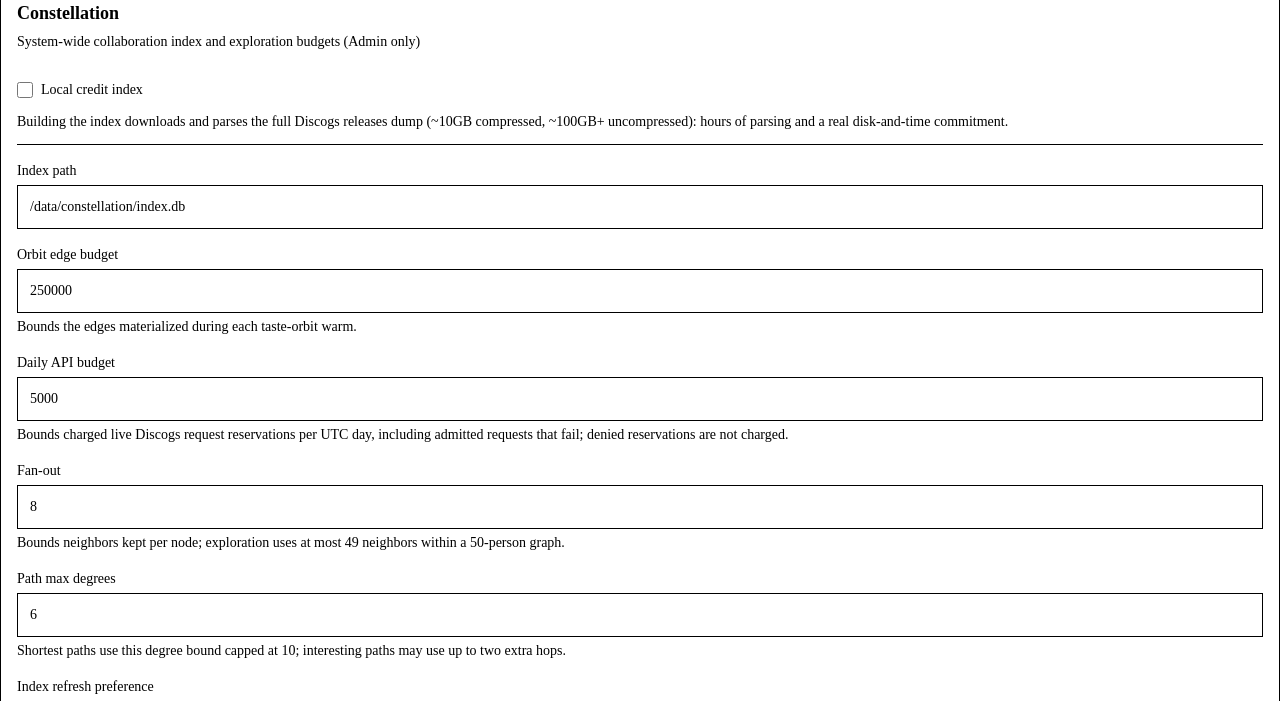
Test: Constellation settings › saves only changed keys to its own endpoint
Step 1. Replace the text in the number field labelled "Daily API budget" with "2000" → (640, 399), box [17,377,1263,421]
(page scrolled)
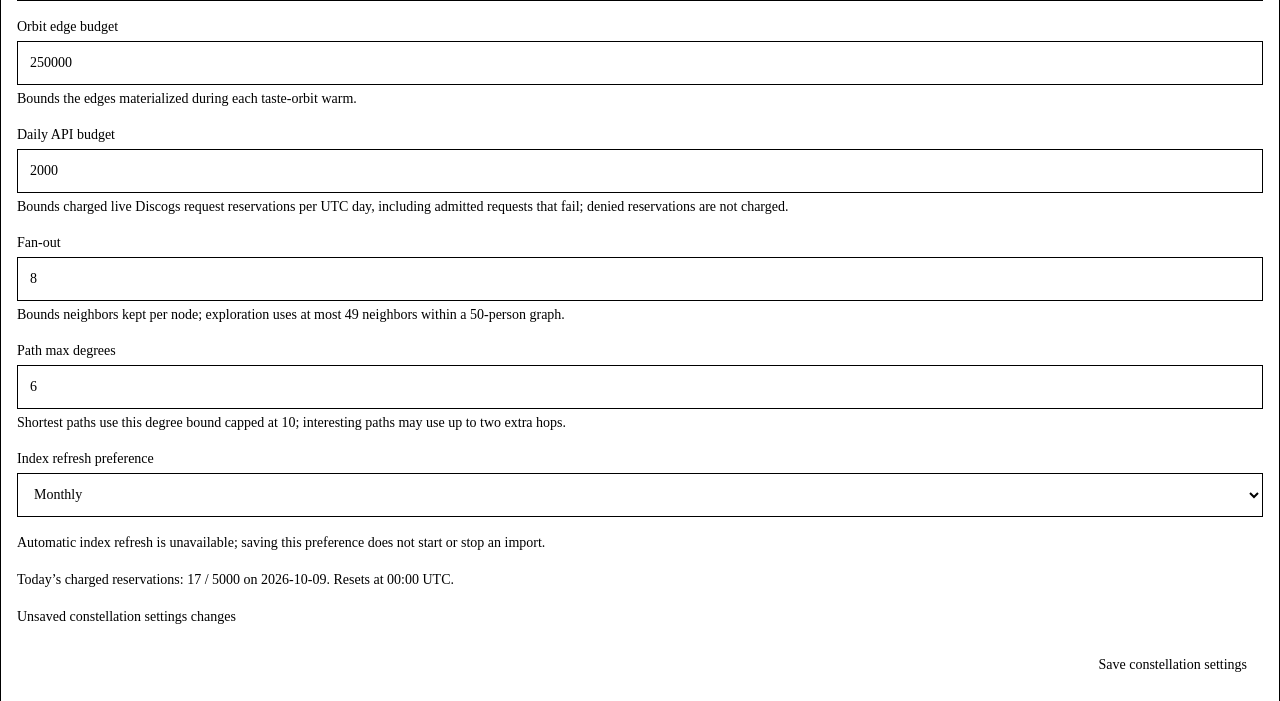
Step 2. Click the button "Save constellation settings" → (1173, 665), box [1082,643,1263,687]
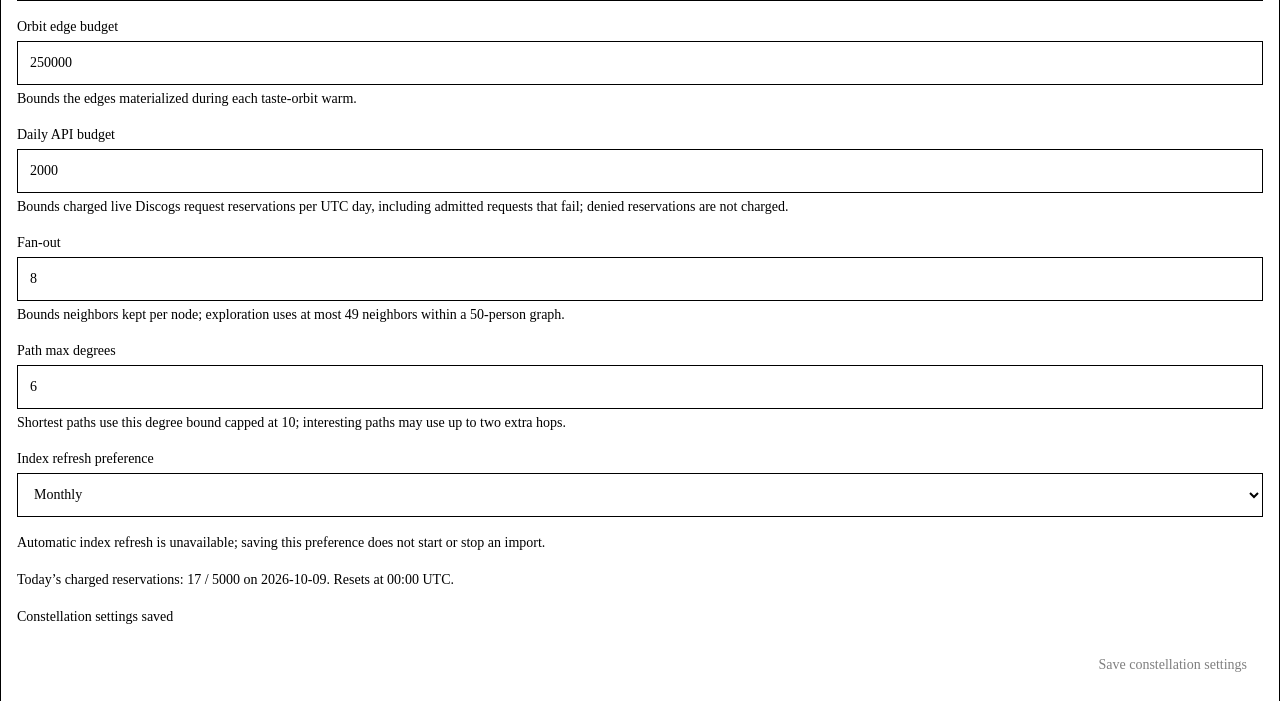
Check: the text "Constellation settings saved" is shown, box [17,609,173,624]
